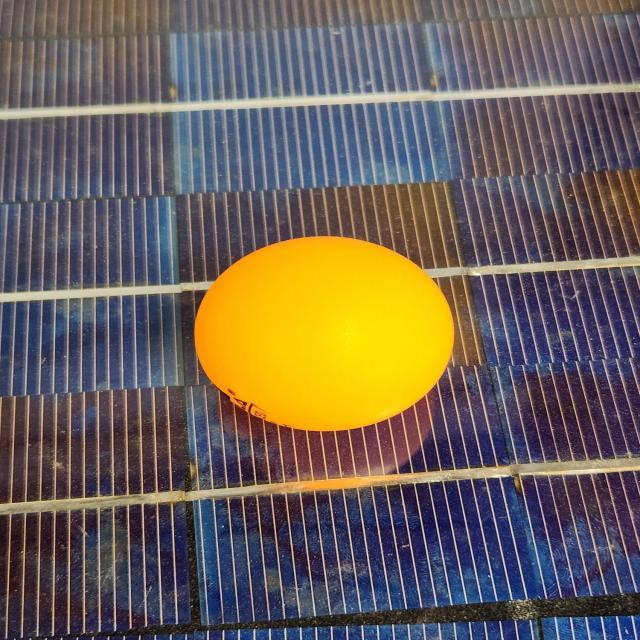oball: (177, 224, 476, 438)
